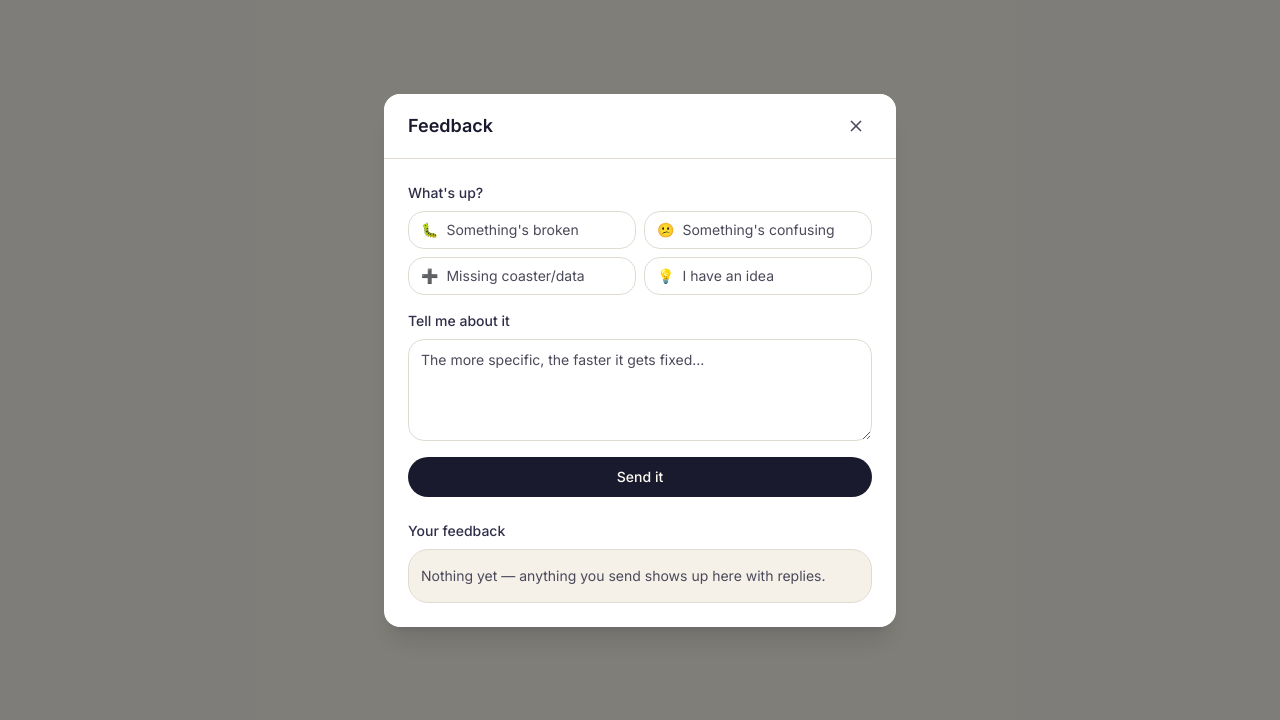
Test: FeedbackModal › blocks submission until a category and message are provided
In the text box labelled "Tell me about it": (640, 390) [408,338,872,440], type "x"
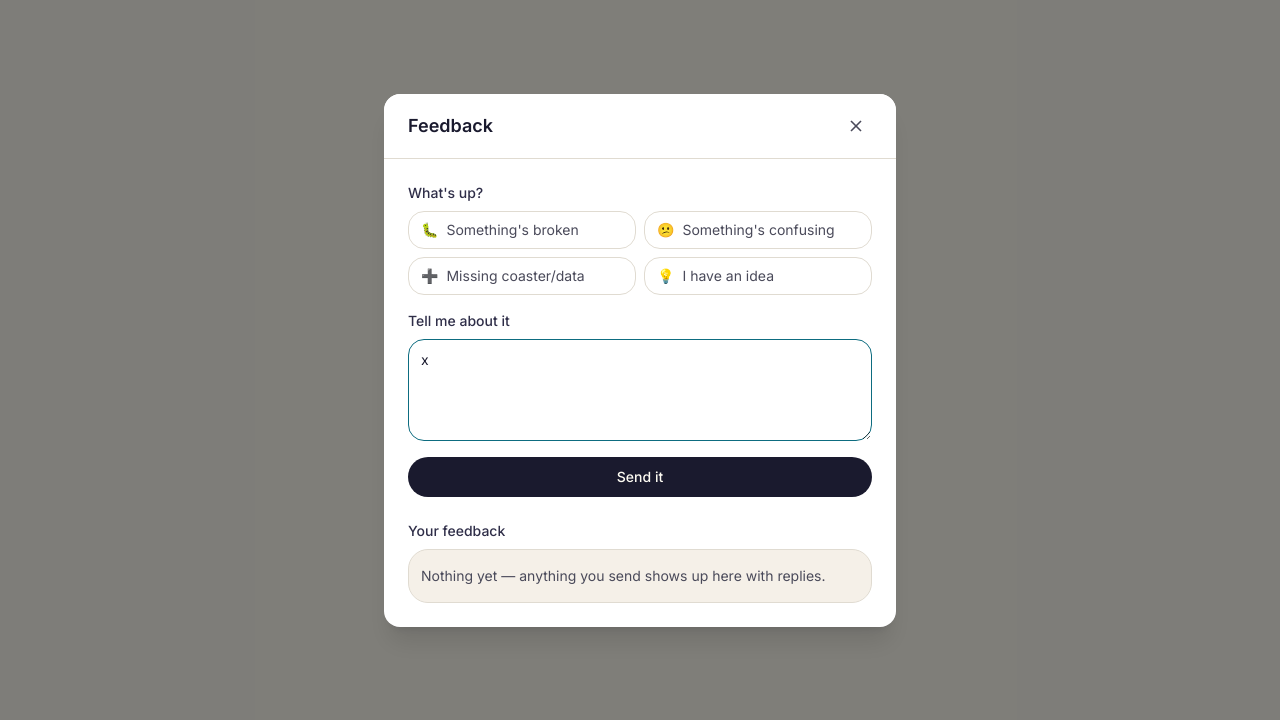
Click the button "Send it": click(640, 476) [408,456,872,496]
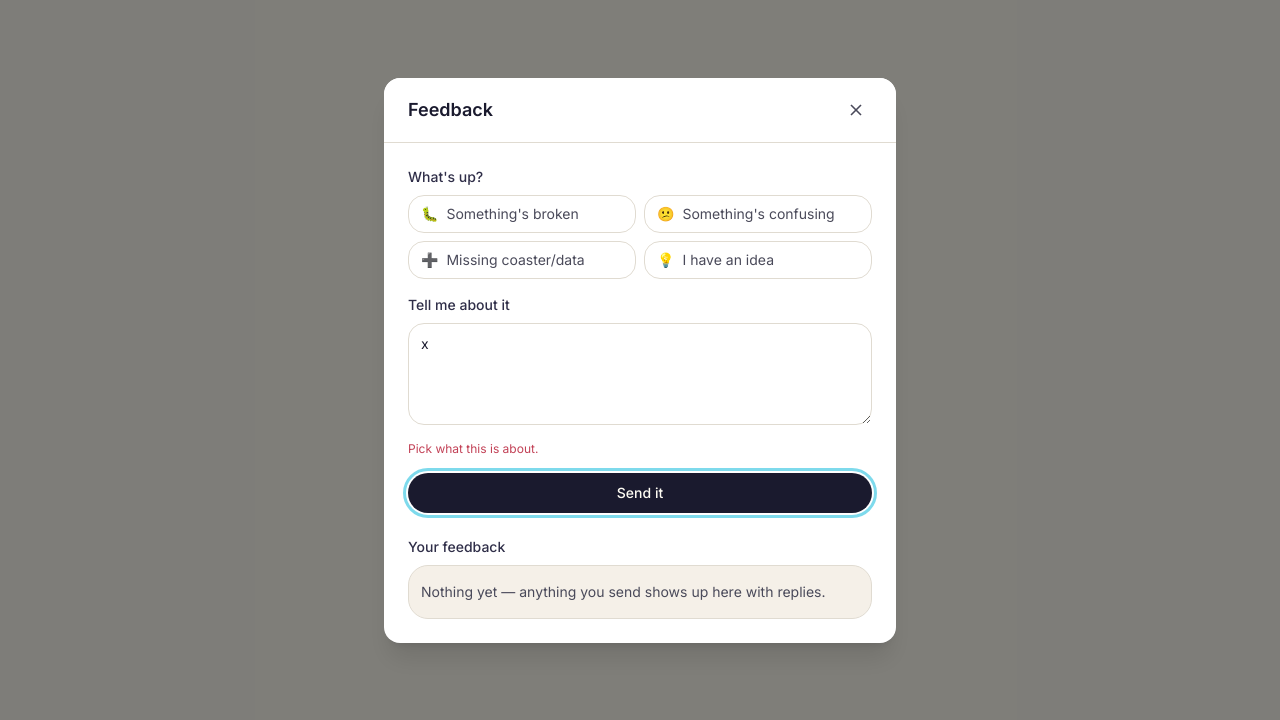
Check: the text "Pick what this is about." is shown, box [408,440,538,456]
